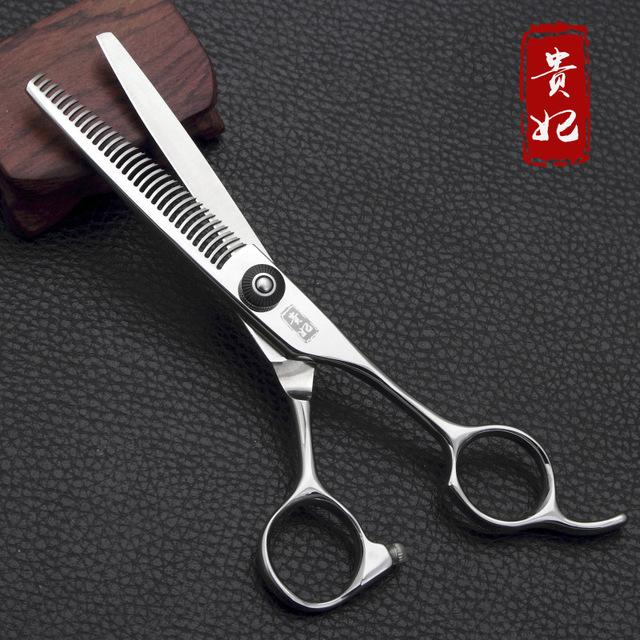scissor: (29, 33, 594, 607)
